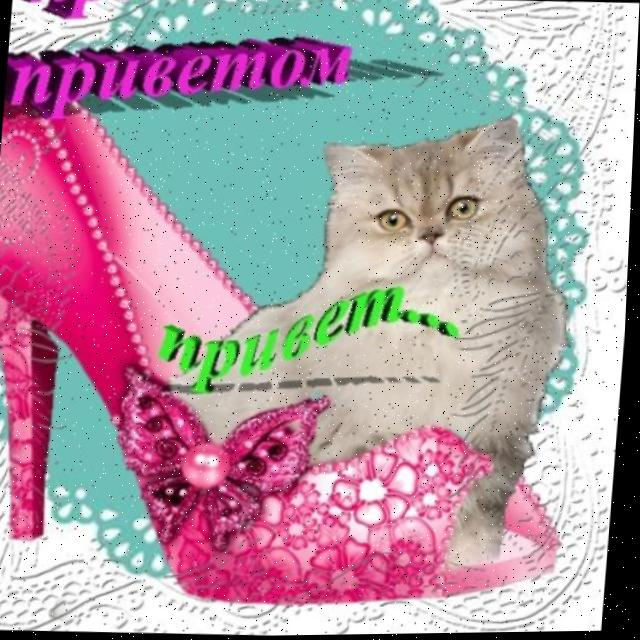Cats: (126, 39, 625, 583)
